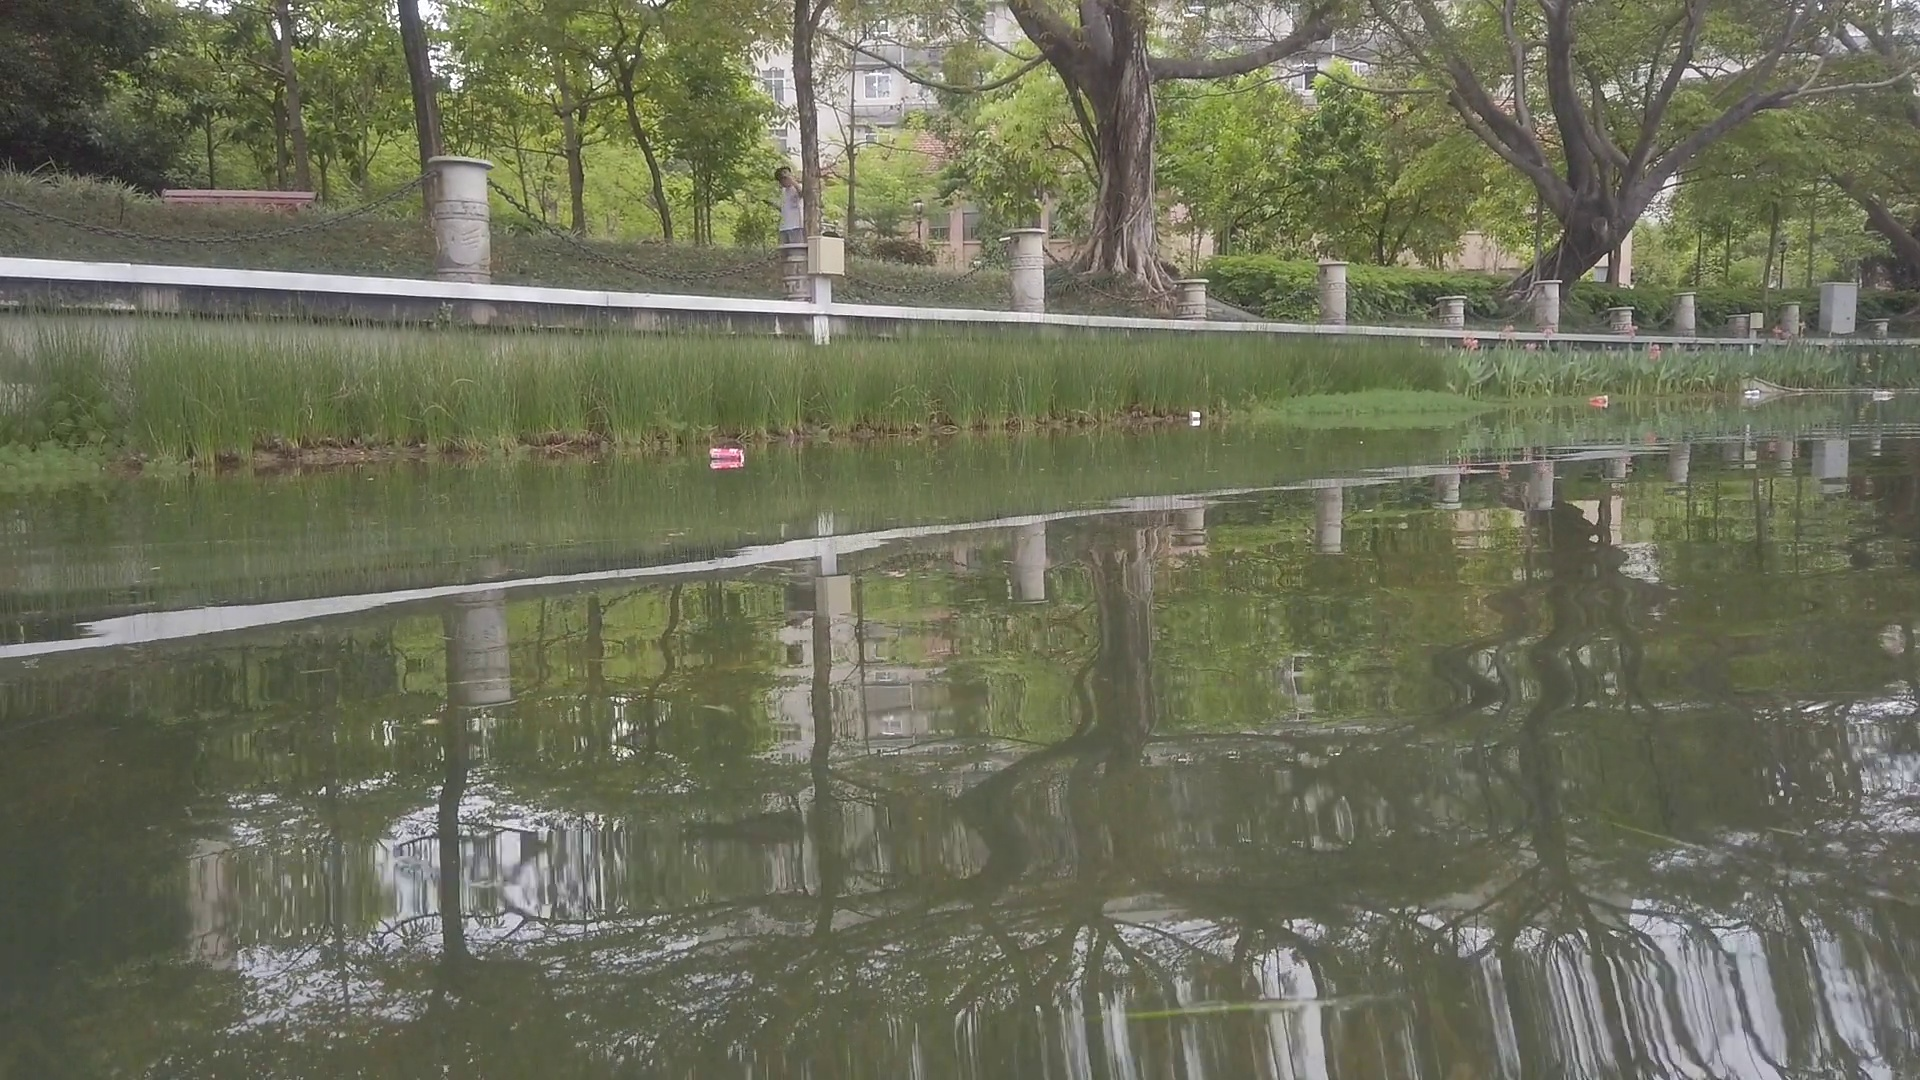bottle: (709, 444, 745, 465), (1873, 392, 1895, 400), (1590, 396, 1607, 405), (1745, 389, 1758, 400)
carton: (1189, 407, 1199, 423)
